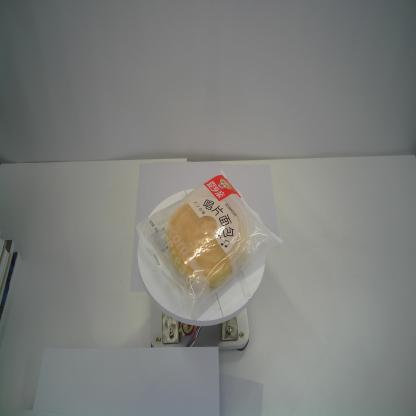Dessert: (134, 167, 284, 320)
